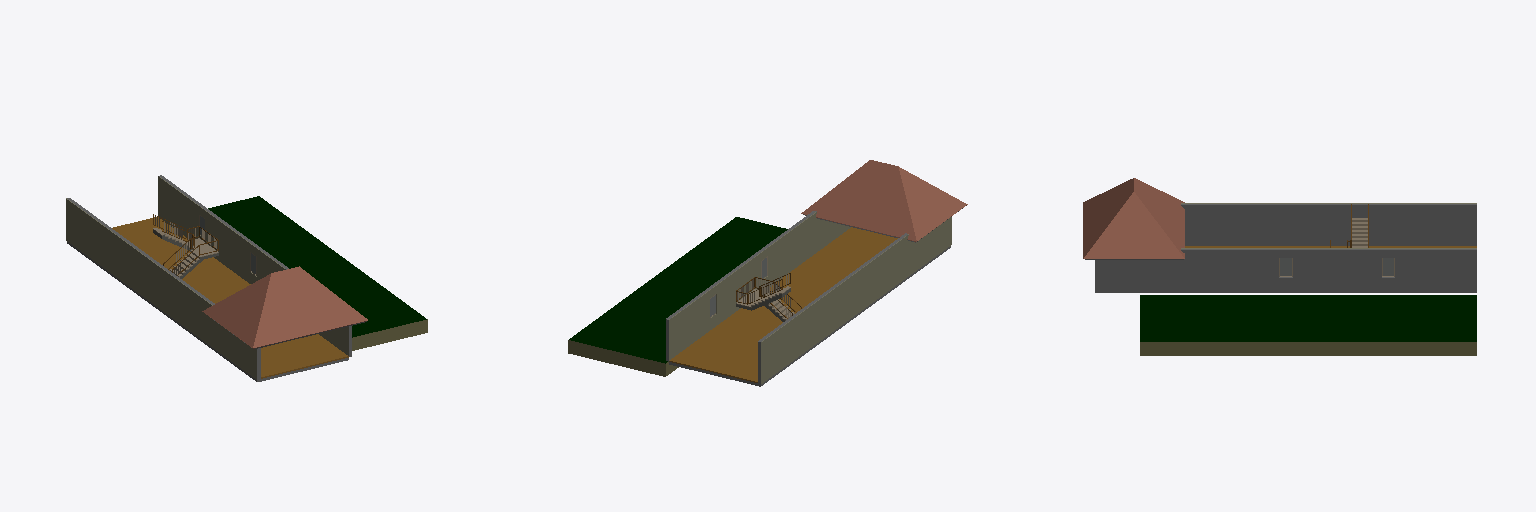
Rendered from Haus1.obj.
3 renders of one model, left to right at view 1: azimuth 30°, elevation 25°; view 2: azimuth 150°, elevation 25°; view 3: azimuth 270°, elevation 25°, orthographic.
Visible parts, largest first — view 1: 6______011, 0______011, 7______011, 2______011, 3______011, 1______011; view 2: 6______011, 2______011, 0______011, 7______011, 3______011, 1______011; view 3: 6______011, 3______011, 0______011, 7______011, 2______011, 1______011.
Boxes of the visible parts, x1,y1,x2,y2 form: 6______011: [208, 196, 427, 350]; 0______011: [66, 198, 260, 379]; 7______011: [202, 266, 367, 348]; 2______011: [67, 217, 348, 381]; 3______011: [158, 175, 351, 356]; 1______011: [153, 214, 218, 278]; 6______011: [568, 217, 787, 376]; 2______011: [669, 227, 950, 386]; 0______011: [758, 217, 951, 383]; 7______011: [801, 160, 967, 242]; 3______011: [666, 211, 850, 361]; 1______011: [736, 273, 801, 321]; 6______011: [1140, 295, 1476, 355]; 3______011: [1095, 248, 1476, 291]; 0______011: [1181, 203, 1476, 245]; 7______011: [1083, 178, 1184, 259]; 2______011: [1095, 246, 1476, 292]; 1______011: [1330, 204, 1368, 247].
Size of the model in its own units: 1.57 by 0.7427 by 2.64.